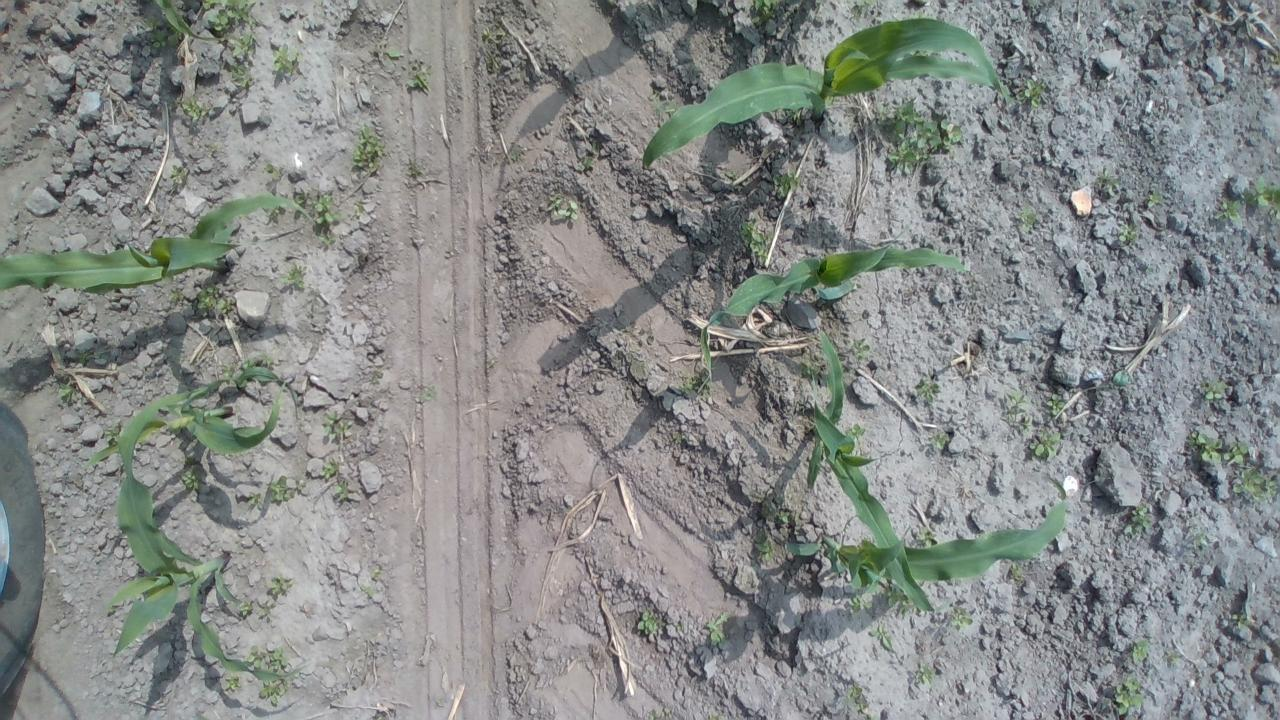Maize: (635, 15, 1005, 184), (84, 357, 304, 588), (748, 471, 1069, 620), (0, 180, 318, 330), (688, 238, 974, 391), (790, 330, 935, 622), (97, 500, 273, 698)
Weeds: (878, 101, 968, 177), (164, 283, 240, 319), (192, 0, 262, 36), (138, 6, 192, 48), (1190, 430, 1248, 468), (738, 218, 776, 272), (255, 572, 297, 620), (1228, 467, 1280, 505), (312, 187, 343, 248), (1104, 674, 1148, 716), (1120, 496, 1160, 542), (350, 122, 384, 176), (1238, 177, 1280, 219), (230, 34, 259, 90), (484, 22, 512, 78), (239, 644, 289, 674), (266, 470, 305, 508), (940, 598, 980, 635), (700, 609, 736, 650), (995, 386, 1034, 422), (1016, 76, 1056, 111), (752, 520, 782, 566), (1177, 516, 1213, 554), (1024, 426, 1064, 460), (270, 43, 307, 79), (771, 167, 806, 205), (180, 94, 215, 131), (882, 576, 916, 614), (318, 408, 355, 442), (838, 678, 872, 715), (763, 499, 808, 526), (796, 354, 830, 388), (1109, 216, 1142, 250), (1210, 194, 1244, 226), (922, 422, 954, 456), (838, 337, 872, 369), (51, 362, 80, 398), (746, 1, 784, 28), (176, 463, 208, 495), (868, 622, 898, 656), (674, 366, 708, 396), (275, 260, 308, 290), (403, 62, 432, 96), (1091, 166, 1119, 201), (911, 375, 942, 406), (912, 524, 944, 554), (1128, 636, 1156, 670), (163, 160, 196, 188), (906, 659, 940, 686), (546, 195, 577, 224), (1012, 207, 1043, 235), (634, 610, 661, 640), (1200, 374, 1224, 407), (260, 680, 288, 708), (332, 478, 358, 508), (1003, 556, 1033, 582), (260, 160, 287, 188), (572, 153, 602, 178), (362, 564, 384, 598), (842, 588, 868, 616), (237, 489, 267, 511), (411, 382, 444, 402), (314, 456, 340, 481), (220, 671, 247, 695), (1140, 191, 1168, 213), (1046, 390, 1064, 420), (380, 44, 404, 66), (235, 598, 257, 622), (1232, 613, 1254, 634), (352, 198, 371, 222), (404, 160, 429, 178), (1109, 366, 1132, 384), (256, 350, 278, 368), (699, 158, 718, 178), (644, 707, 672, 720), (1164, 648, 1183, 666), (668, 429, 688, 444), (846, 425, 866, 439), (724, 168, 741, 184)
